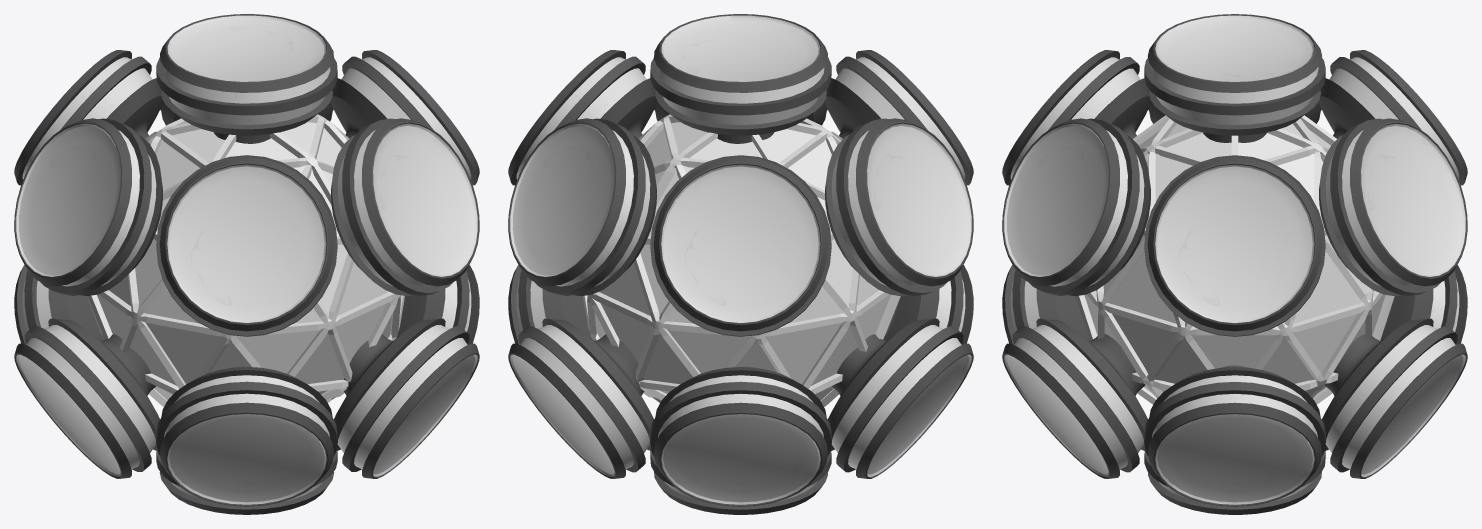
The model's file is player.fbx.
The picture shows the model from 3 angles, left to right: view 1: azimuth 30°, elevation 25°; view 2: azimuth 150°, elevation 25°; view 3: azimuth 270°, elevation 25°; orthographic projection.
Visible parts, largest first — view 1: Cylinder.004, Cylinder.008, Cylinder.009, Cylinder.012, Cylinder, Icosphere.001, Cylinder.003, Cylinder.001, Icosphere, Cylinder.006, Cylinder.005, Cylinder.011 (+2 smaller); view 2: Cylinder.006, Cylinder.008, Cylinder.010, Cylinder.011, Cylinder, Icosphere.001, Cylinder.003, Cylinder.002, Icosphere, Cylinder.004, Cylinder.005, Cylinder.012 (+2 smaller); view 3: Cylinder.005, Cylinder.009, Cylinder.010, Cylinder.013, Cylinder, Icosphere.001, Cylinder.001, Cylinder.002, Icosphere, Cylinder.006, Cylinder.004, Cylinder.012 (+2 smaller).
Boxes of the visible parts, x1=… form: Cylinder.004: x1=156, y1=155, x2=337, y2=336; Cylinder.008: x1=14, y1=118, x2=162, y2=295; Cylinder.009: x1=331, y1=118, x2=479, y2=295; Cylinder.012: x1=156, y1=366, x2=337, y2=506; Cylinder: x1=156, y1=14, x2=337, y2=143; Icosphere.001: x1=97, y1=122, x2=391, y2=400; Cylinder.003: x1=14, y1=318, x2=159, y2=478; Cylinder.001: x1=334, y1=318, x2=479, y2=478; Icosphere: x1=87, y1=114, x2=404, y2=406; Cylinder.006: x1=14, y1=50, x2=162, y2=185; Cylinder.005: x1=331, y1=50, x2=479, y2=185; Cylinder.011: x1=14, y1=265, x2=104, y2=344; Cylinder.006: x1=650, y1=155, x2=831, y2=336; Cylinder.008: x1=825, y1=118, x2=973, y2=296; Cylinder.010: x1=508, y1=118, x2=656, y2=296; Cylinder.011: x1=650, y1=366, x2=831, y2=506; Cylinder: x1=650, y1=14, x2=831, y2=143; Icosphere.001: x1=595, y1=122, x2=890, y2=400; Cylinder.003: x1=828, y1=318, x2=973, y2=478; Cylinder.002: x1=508, y1=318, x2=653, y2=478; Icosphere: x1=583, y1=114, x2=900, y2=406; Cylinder.004: x1=825, y1=50, x2=973, y2=185; Cylinder.005: x1=508, y1=50, x2=656, y2=185; Cylinder.012: x1=883, y1=265, x2=973, y2=344; Cylinder.005: x1=1144, y1=155, x2=1325, y2=336; Cylinder.009: x1=1002, y1=118, x2=1150, y2=296; Cylinder.010: x1=1319, y1=118, x2=1467, y2=296; Cylinder.013: x1=1144, y1=365, x2=1325, y2=506; Cylinder: x1=1144, y1=14, x2=1325, y2=142; Icosphere.001: x1=1084, y1=123, x2=1385, y2=393; Cylinder.001: x1=1002, y1=318, x2=1147, y2=478; Cylinder.002: x1=1322, y1=318, x2=1467, y2=478; Icosphere: x1=1075, y1=115, x2=1394, y2=404; Cylinder.006: x1=1319, y1=50, x2=1467, y2=185; Cylinder.004: x1=1002, y1=50, x2=1150, y2=185; Cylinder.012: x1=1002, y1=265, x2=1089, y2=344.
Bounding box in the file's own units: 307 × 297 × 289.
